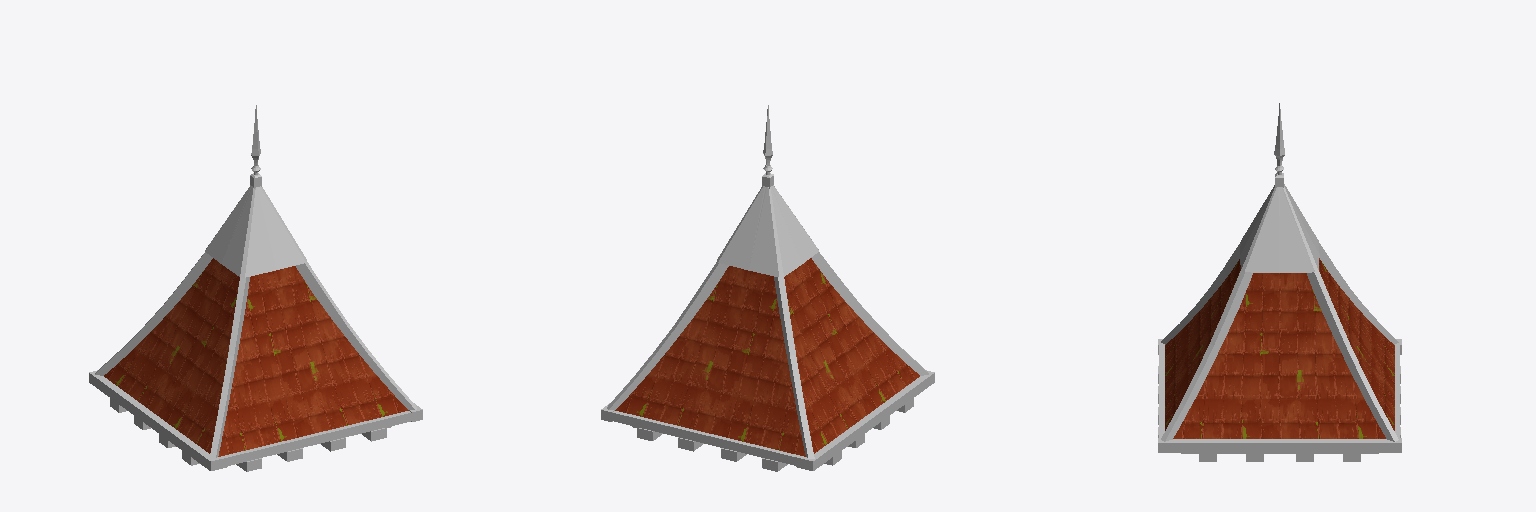
The picture shows the model from 3 angles: view 1: azimuth 30°, elevation 25°; view 2: azimuth 150°, elevation 25°; view 3: azimuth 270°, elevation 25°; orthographic projection.
Parts seen in each view (by area): view 1: Roof_Tower_FlatTiles; view 2: Roof_Tower_FlatTiles; view 3: Roof_Tower_FlatTiles.
Part boxes in pixels (x1,y1,x2,y2): Roof_Tower_FlatTiles: (89, 105, 422, 471); Roof_Tower_FlatTiles: (601, 105, 934, 471); Roof_Tower_FlatTiles: (1158, 103, 1401, 461).
Size of the model in its own units: 5.24 by 7.36 by 5.2.
Materials: 4 (1 with a texture image).